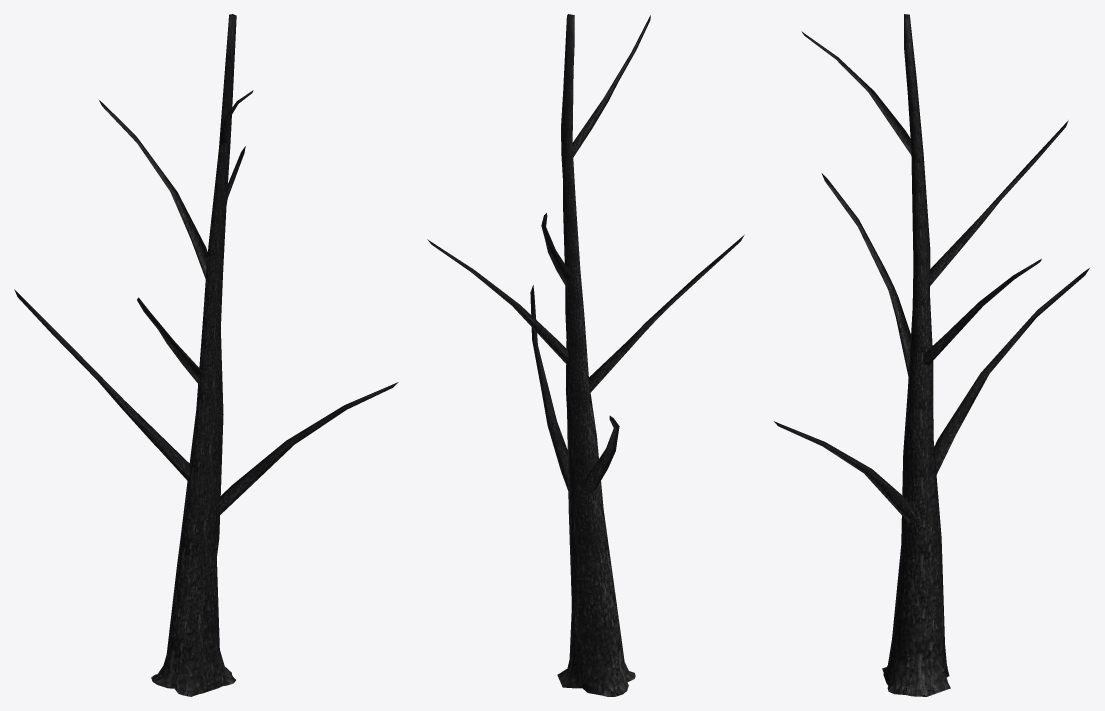
File: tree_8.glb
3 views of the same model, side by side, from view 1: azimuth 30°, elevation 25°; view 2: azimuth 150°, elevation 25°; view 3: azimuth 270°, elevation 25° (orthographic). The views are drawn at different scales.
Visible parts, largest first — view 1: tree_8; view 2: tree_8; view 3: tree_8.
Part boxes in pixels (box(x1,y1,x2,y2)): tree_8: box(14, 14, 398, 696); tree_8: box(427, 14, 744, 696); tree_8: box(774, 14, 1089, 696).
Bounding box in the file's own units: 2.97 × 7.91 × 3.34.
1 material, 1 textured.
